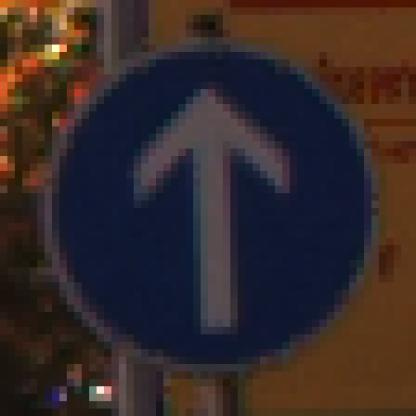AheadOnly: (38, 38, 373, 380)
